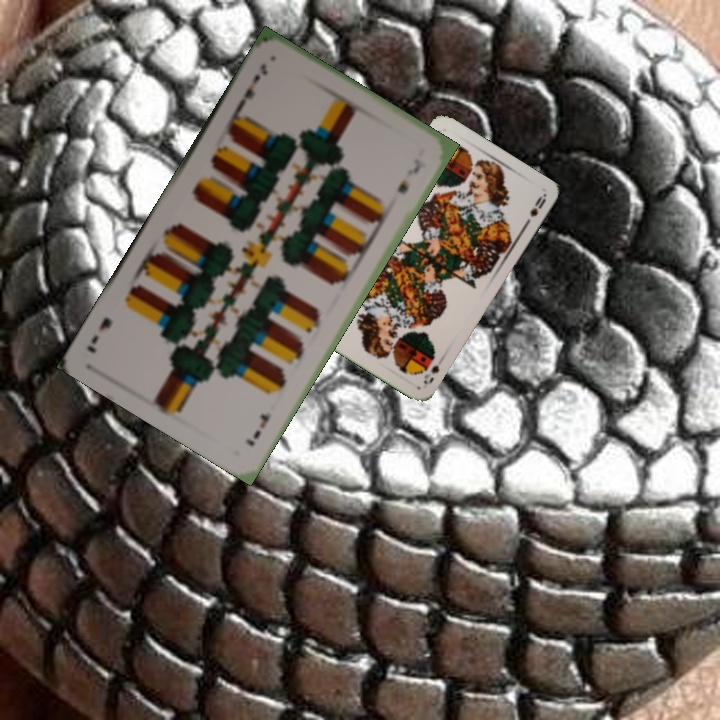E7: (234, 59, 270, 110), (241, 409, 273, 449)
SO: (419, 361, 442, 387)
